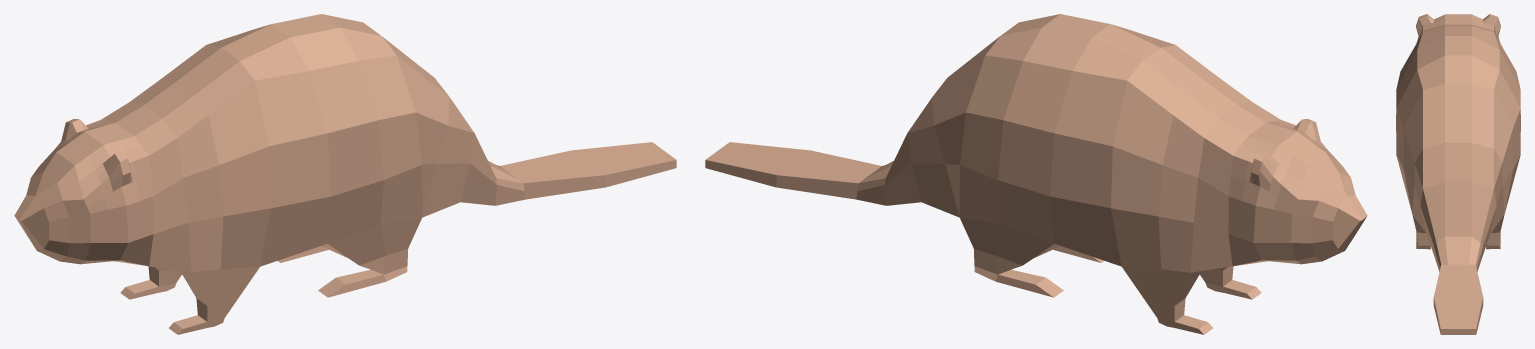
The model's file is beaver.glb.
3 renders of one model, left to right at view 1: azimuth 30°, elevation 25°; view 2: azimuth 150°, elevation 25°; view 3: azimuth 270°, elevation 25°, orthographic. The views are drawn at different scales.
Visible parts, largest first — view 1: Plane; view 2: Plane; view 3: Plane.
Part boxes in pixels (x1,y1,x2,y2): Plane: (14,14,676,334); Plane: (705,14,1367,334); Plane: (1396,14,1520,334).
Bounding box in the file's own units: 20.07 × 7.46 × 4.59.
